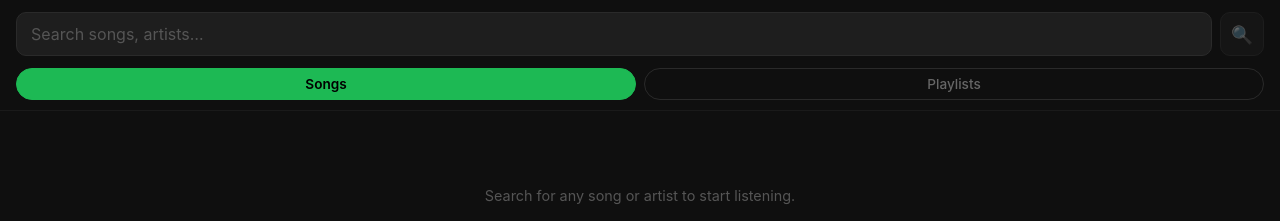
Scenario: SearchView › shows no playlists found message for empty playlist search
This screenshot has width=1280, height=221.
Click the tab "Playlists": (954, 84) left=644, top=68, right=1264, bottom=100
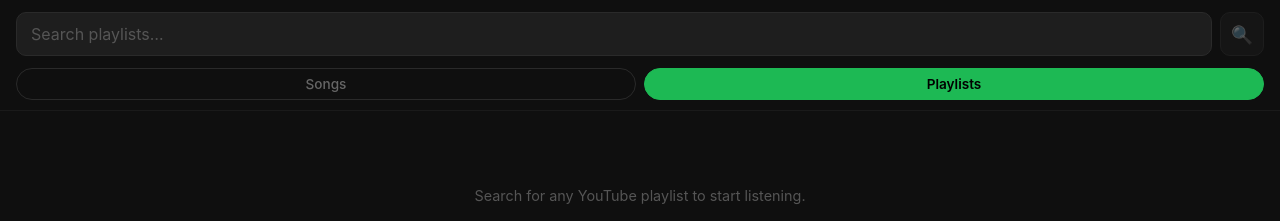
In the search field with placeholder "Search playlists…": (614, 34) left=16, top=12, right=1212, bottom=56, type "xyznotfound"
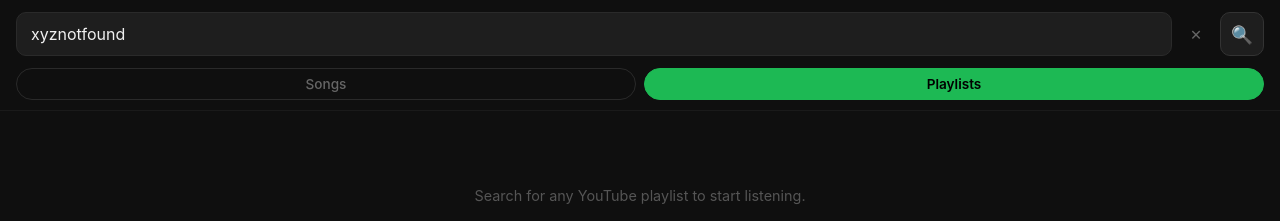
Submit the form with placeholder "search playlists", box left=0, top=0, right=1279, bottom=68
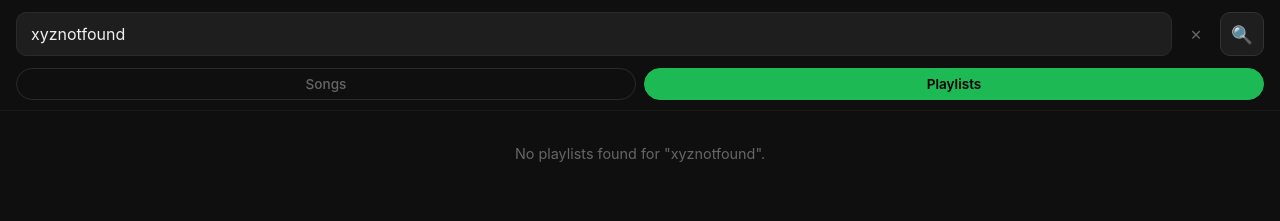
Result: the text "No playlists found for \"xyznotfound\"." is shown at left=515, top=145, right=765, bottom=162
